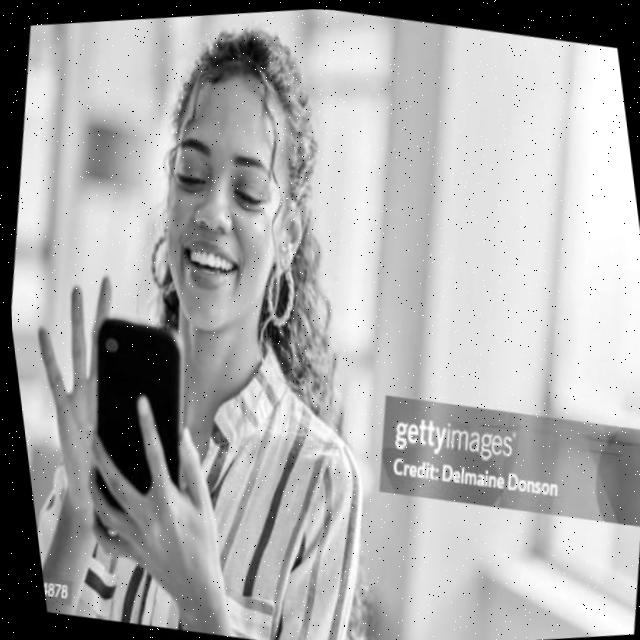phone: (54, 304, 214, 553)
